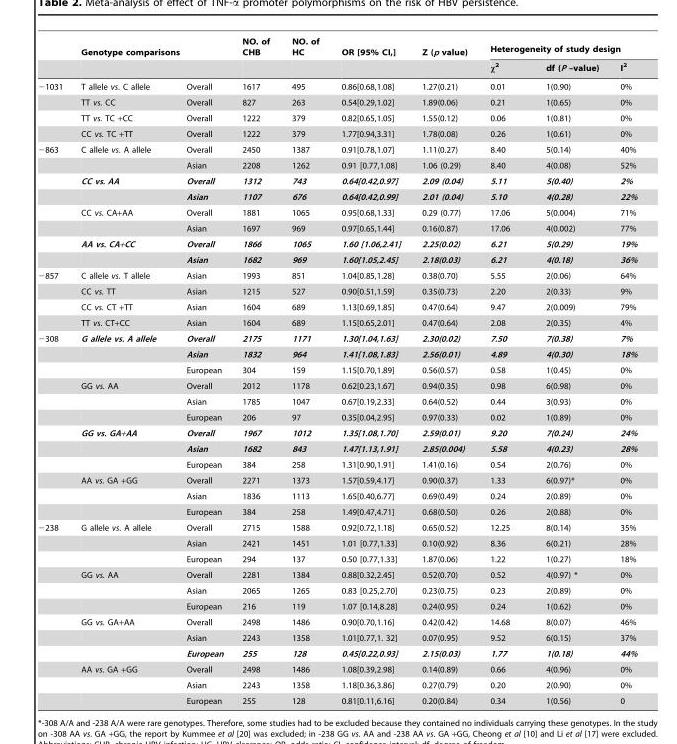table: (37, 36, 638, 705)
table column: (71, 36, 171, 705), (329, 36, 411, 705), (526, 36, 608, 705), (411, 36, 477, 705), (171, 36, 232, 705), (279, 36, 329, 705), (477, 36, 526, 705), (232, 36, 279, 705), (37, 36, 71, 705), (608, 36, 638, 705)
table column header: (37, 36, 638, 77)
table row: (37, 36, 638, 58), (37, 58, 638, 77), (37, 423, 638, 441), (37, 612, 638, 630), (37, 77, 638, 94), (37, 203, 638, 220), (37, 235, 638, 252), (37, 313, 638, 330), (37, 471, 638, 488), (37, 660, 638, 677), (37, 109, 638, 125), (37, 125, 638, 141), (37, 141, 638, 157), (37, 157, 638, 173), (37, 267, 638, 283), (37, 297, 638, 313), (37, 330, 638, 346), (37, 346, 638, 362), (37, 377, 638, 393), (37, 393, 638, 409), (37, 503, 638, 519), (37, 519, 638, 535), (37, 535, 638, 551), (37, 566, 638, 582), (37, 582, 638, 598), (37, 94, 638, 109), (37, 173, 638, 188), (37, 188, 638, 203), (37, 220, 638, 235), (37, 252, 638, 267), (37, 362, 638, 377), (37, 441, 638, 456), (37, 456, 638, 471), (37, 488, 638, 503), (37, 551, 638, 566), (37, 630, 638, 645), (37, 645, 638, 660), (37, 677, 638, 692), (37, 283, 638, 297), (37, 409, 638, 423), (37, 598, 638, 612), (37, 692, 638, 705)
table spanning cell: (37, 330, 71, 519), (37, 519, 71, 705), (37, 141, 71, 267), (71, 36, 232, 58), (477, 36, 638, 58), (329, 36, 411, 77), (411, 36, 477, 77), (37, 77, 71, 141), (37, 267, 71, 330), (279, 36, 329, 77), (232, 36, 279, 77)
